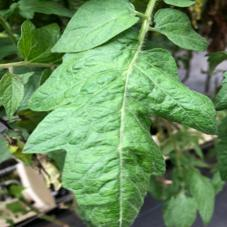Healthy: (21, 35, 220, 227), (51, 0, 141, 56), (152, 7, 211, 52), (0, 71, 26, 118)
